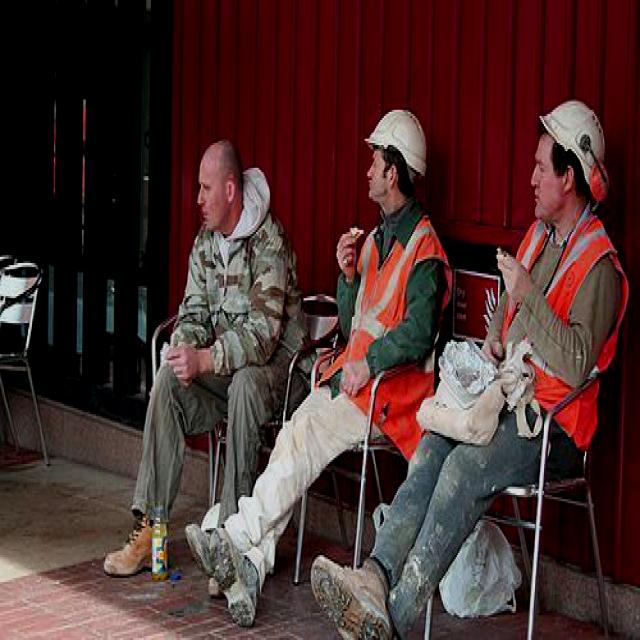face_nomask: (520, 153, 580, 222), (192, 170, 247, 234), (364, 147, 406, 207)
hand_noglove: (492, 244, 536, 319), (166, 340, 218, 398), (342, 350, 374, 402), (335, 222, 361, 278)
head_helmet: (539, 95, 609, 191), (365, 108, 430, 176)
head_nohelmet: (188, 124, 243, 166)
person: (432, 104, 628, 564), (302, 106, 447, 468), (147, 142, 310, 459)
shoes: (307, 557, 401, 640), (207, 522, 256, 630), (102, 515, 166, 577)
vest: (486, 208, 616, 451), (336, 213, 444, 427)
